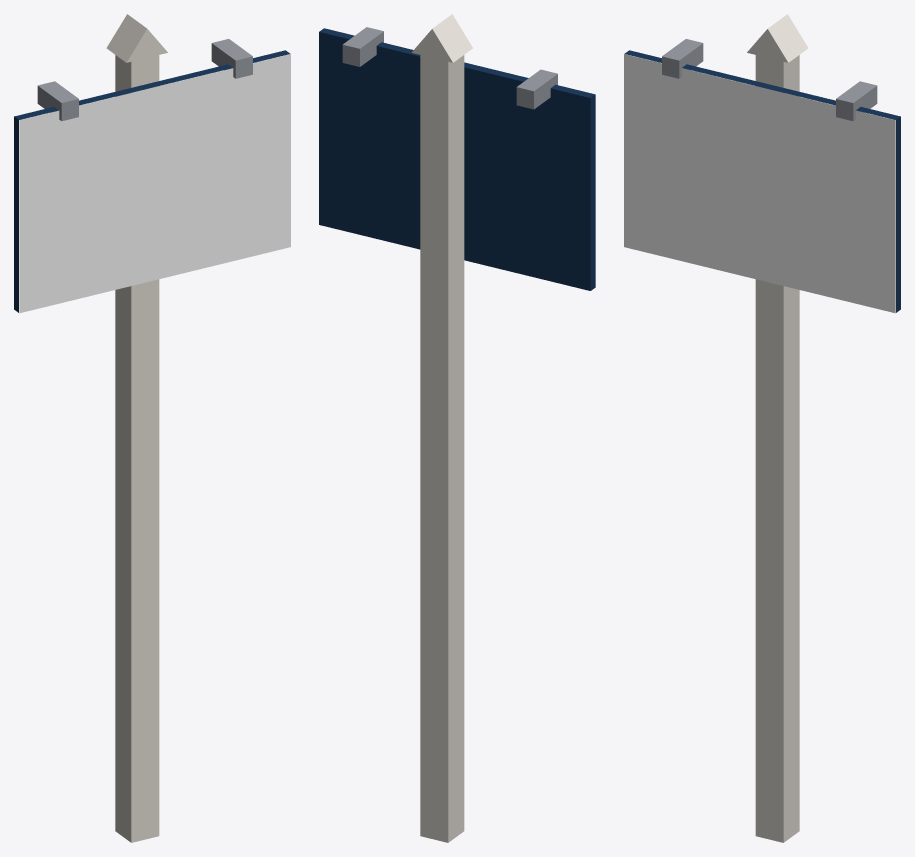
Rendered from agent_board.glb.
3 views of the same model, side by side, from view 1: azimuth 30°, elevation 25°; view 2: azimuth 150°, elevation 25°; view 3: azimuth 330°, elevation 25° (orthographic).
Visible parts, largest first — view 1: agent_board; view 2: agent_board; view 3: agent_board.
Boxes of the visible parts, x1,y1,x2,y2 form: agent_board: (14, 14, 290, 842); agent_board: (319, 14, 595, 842); agent_board: (624, 14, 900, 842).
Bounding box in the file's own units: 0.78 × 2.23 × 0.15.
